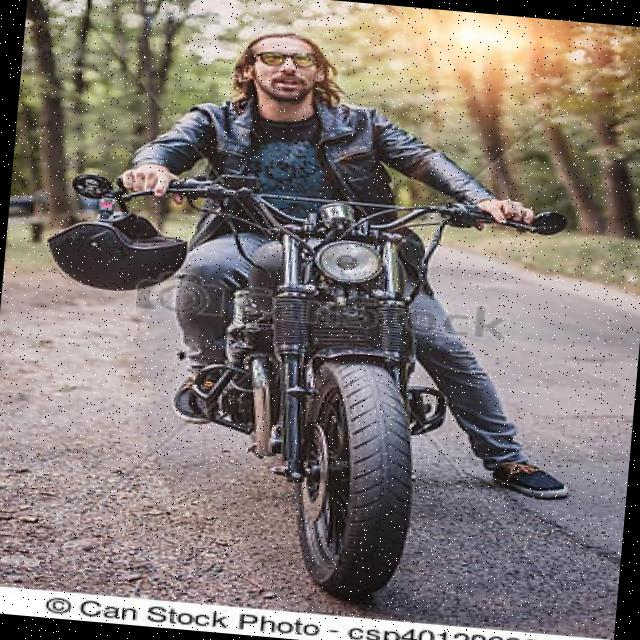No helmet: (221, 27, 363, 146)
